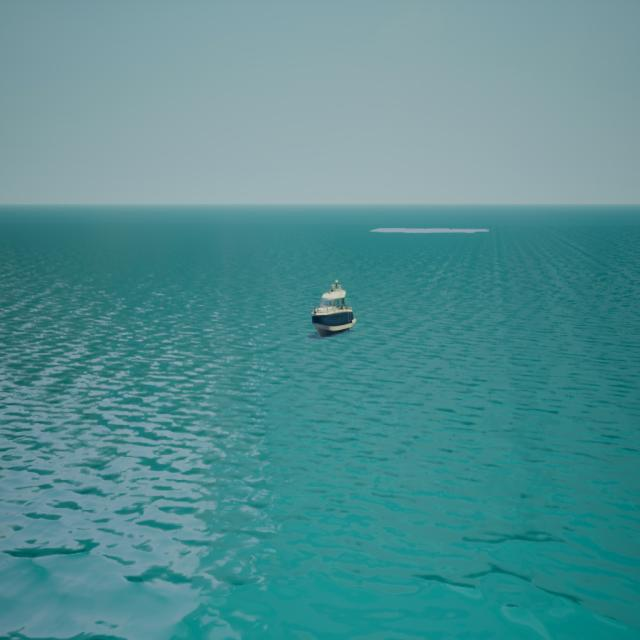ship: (310, 278, 354, 334)
